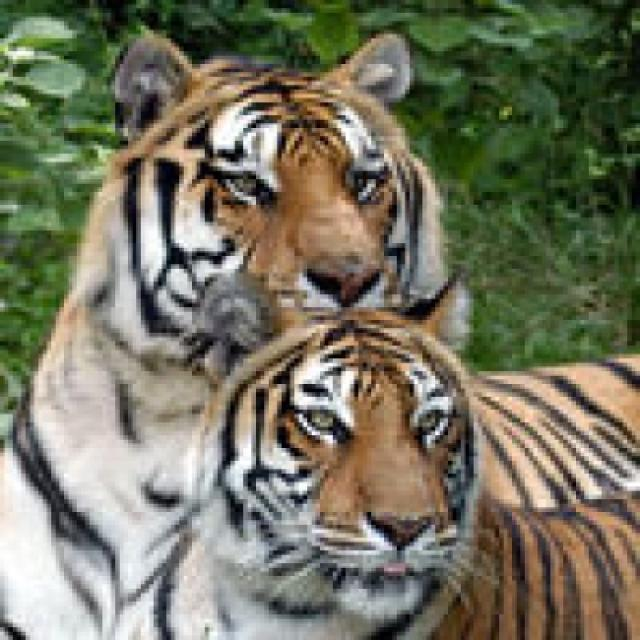Tiger: (0, 27, 638, 638)
